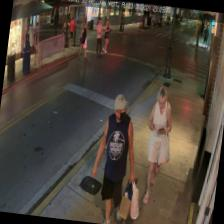person: (85, 91, 144, 224), (138, 84, 176, 204), (76, 22, 91, 61), (92, 17, 106, 56), (102, 18, 113, 52)
